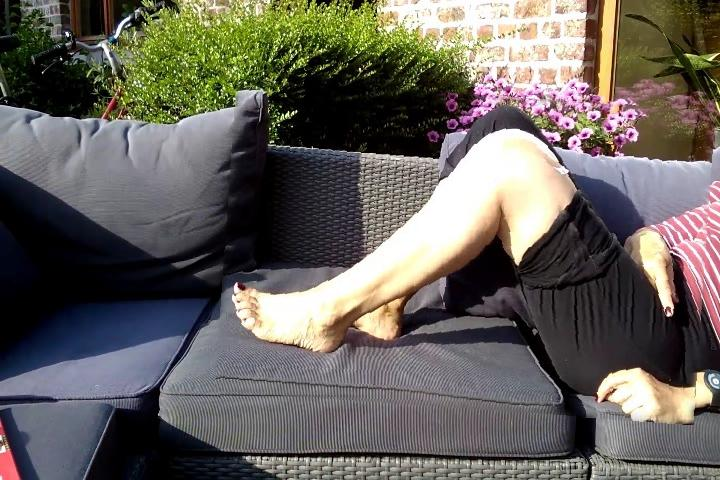lowerbody: (221, 89, 711, 419)
